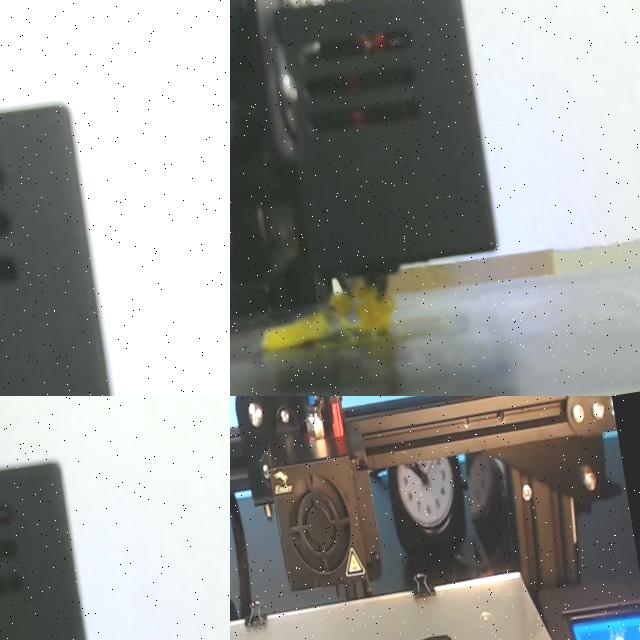spaghetti: (261, 277, 395, 352)
